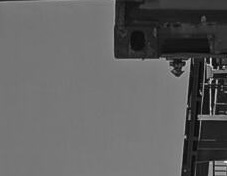twist_lock_2: (164, 53, 189, 83)
